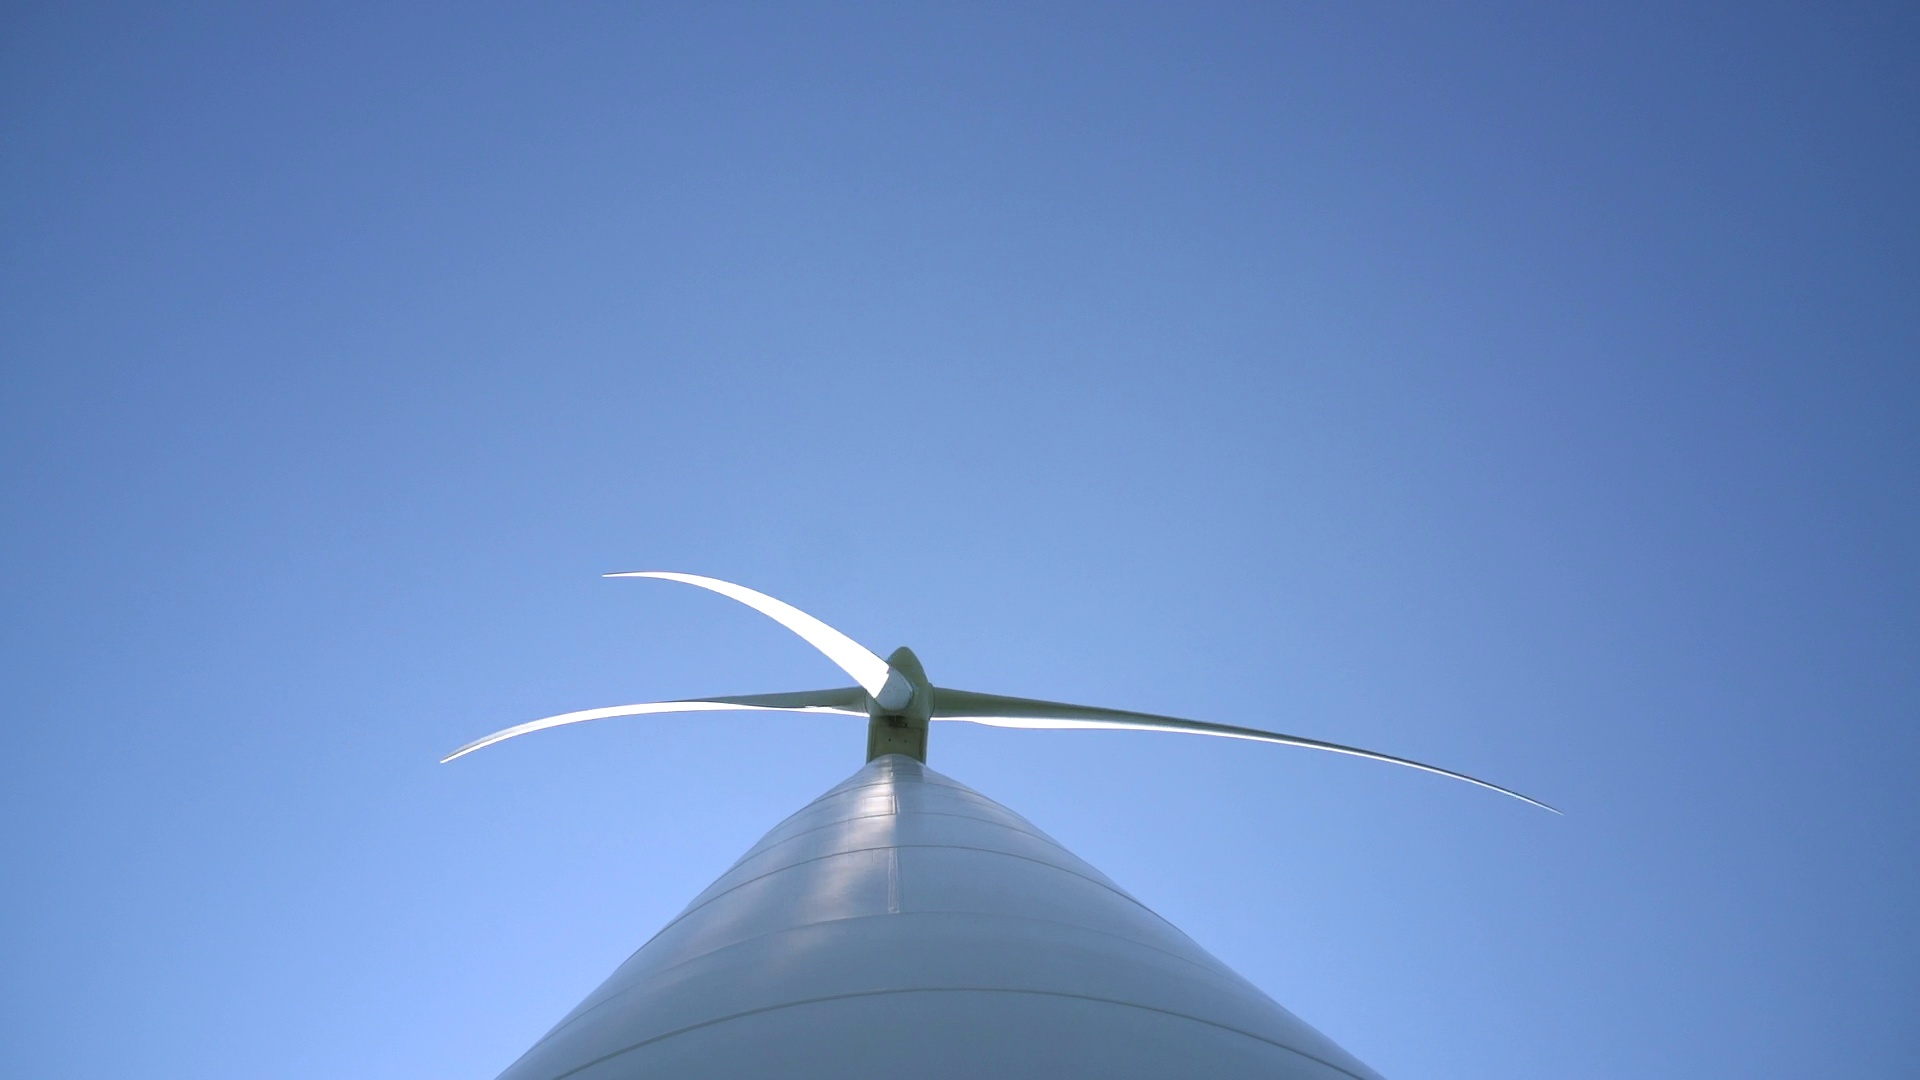turbine: (911, 647, 1610, 831), (584, 545, 940, 731), (373, 655, 866, 771)
